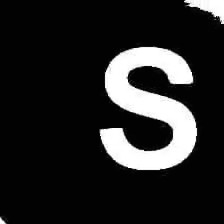LTR_S: (94, 38, 201, 176)
